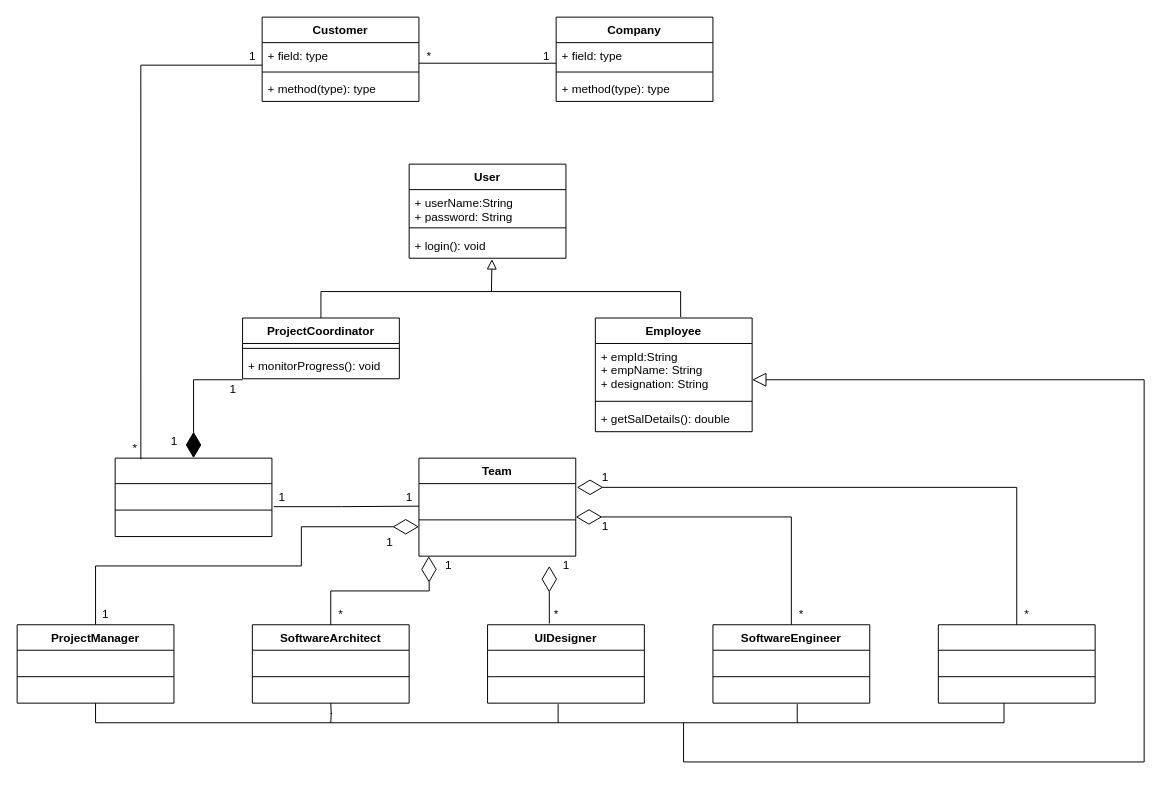
Image size: 1175x793. Some labels were removed from this diagram. Each missing label, with the centre of its shape:
"Project" goes at (x=193, y=497).
"QAEngineer" goes at (x=1016, y=663).
